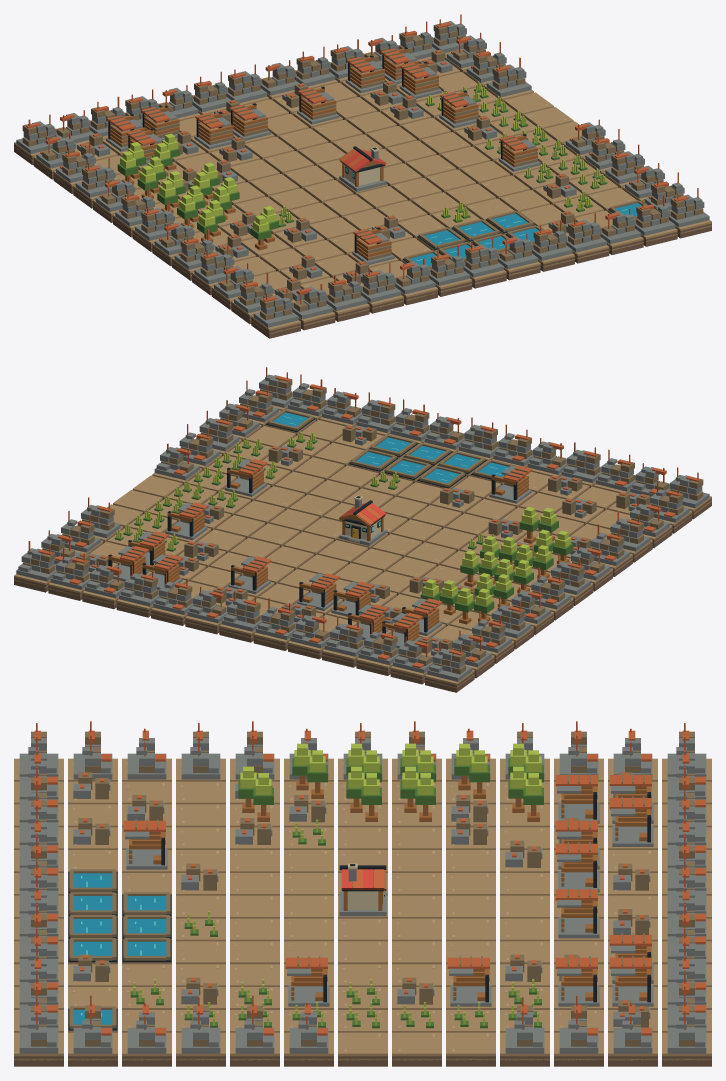
The model's file is base_13x13_voxel.glb.
3 renders of one model, top to bottom at view 1: azimuth 30°, elevation 25°; view 2: azimuth 150°, elevation 25°; view 3: azimuth 270°, elevation 25°, orthographic. The views are drawn at different scales.
Parts seen in each view (by area): view 1: earth_top.070, earth_top.088, earth_top.087, earth_top.097, earth_top.114, earth_top.058, earth_top.098, earth_top.100, earth_top.047, earth_top.048, earth_top.061, earth_top.071 (+34 smaller); view 2: earth_top.088, earth_top.073, earth_top.074, earth_top.075, earth_top.083, earth_top.100, earth_top.127, earth_top.084, earth_top.097, earth_top.114, earth_top.071, earth_top.072 (+28 smaller); view 3: earth_top.065, earth_top.078, earth_top.091, earth_top.047, earth_top.060, earth_top.073, earth_top.074, earth_top.086, earth_top.087, earth_top.099, earth_top.112, earth_top.113 (+100 smaller).
Boxes of the visible parts, box(x1,y1,x2,y2) form: earth_top.070: box(249, 173, 299, 196); earth_top.088: box(440, 146, 490, 169); earth_top.087: box(406, 155, 456, 177); earth_top.097: box(323, 194, 373, 216); earth_top.114: box(480, 175, 530, 197); earth_top.058: box(264, 151, 314, 173); earth_top.098: box(357, 186, 407, 208); earth_top.100: box(426, 169, 476, 191); earth_top.047: box(313, 119, 362, 142); earth_top.048: box(347, 111, 396, 133); earth_top.061: box(367, 126, 416, 148); earth_top.071: box(284, 165, 333, 187); earth_top.088: box(235, 500, 285, 523); earth_top.073: box(284, 531, 333, 554); earth_top.074: box(249, 523, 299, 545); earth_top.075: box(215, 515, 265, 537); earth_top.083: box(406, 542, 456, 564); earth_top.100: box(289, 494, 339, 516); earth_top.127: box(294, 457, 344, 479); earth_top.084: box(372, 534, 422, 556); earth_top.097: box(392, 519, 441, 542); earth_top.114: box(275, 471, 324, 494); earth_top.071: box(352, 548, 402, 570); earth_top.072: box(318, 540, 368, 562); earth_top.065: box(446, 1032, 495, 1056); earth_top.078: box(392, 1032, 441, 1056); earth_top.091: box(338, 1032, 387, 1056); earth_top.047: box(500, 918, 549, 941); earth_top.060: box(446, 918, 495, 941); earth_top.073: box(392, 918, 441, 941); earth_top.074: box(392, 941, 441, 964); earth_top.086: box(338, 918, 387, 941); earth_top.087: box(338, 941, 387, 964); earth_top.099: box(284, 918, 333, 941); earth_top.112: box(230, 918, 279, 941); earth_top.113: box(230, 941, 279, 964).
Size of the model in its own units: 12.93 by 1.22 by 12.93.
